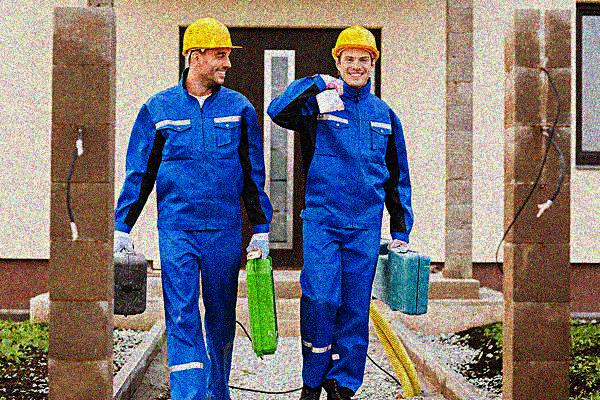helmet: (180, 17, 240, 88), (329, 25, 381, 87)
